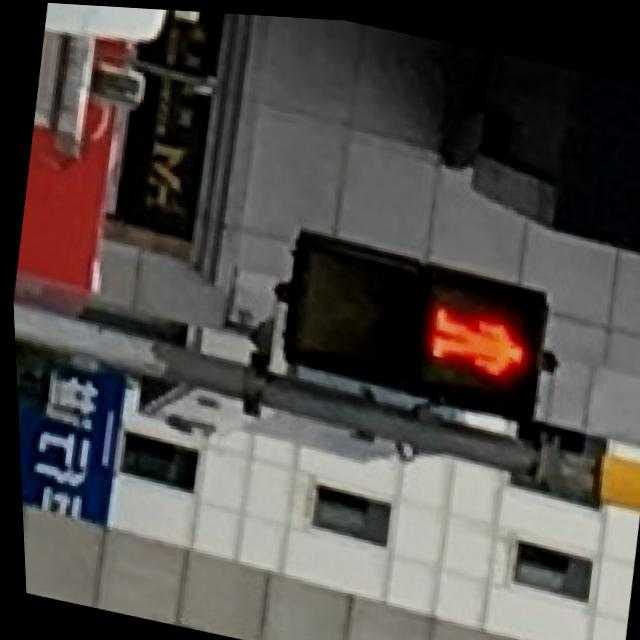red_light: (411, 277, 542, 410)
